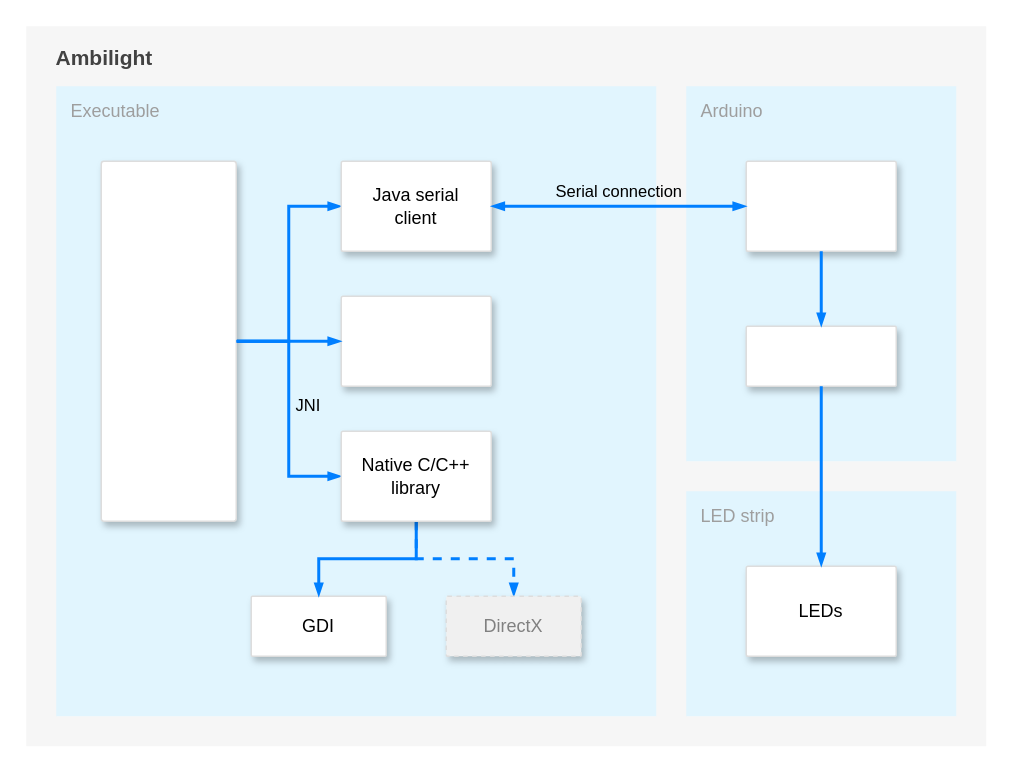
Some shapes in this 1011 by 771 pixel diagram are drawn without their labels. Each missing label, with the centre of its shape:
Arduino serial client: (822,208)
FastLED library: (822,358)
Java app: (169,343)
Swing GUI: (417,343)
